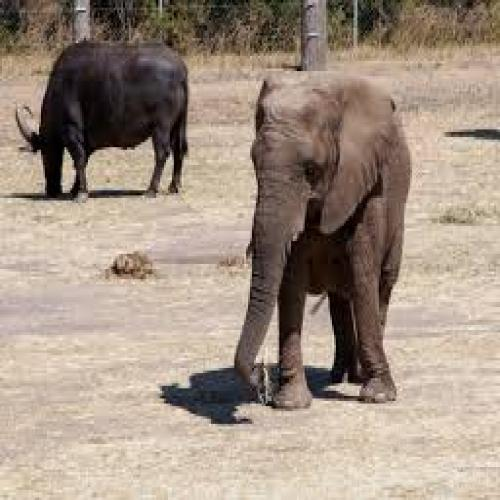asian_elephant-endangered: (232, 79, 415, 408)
